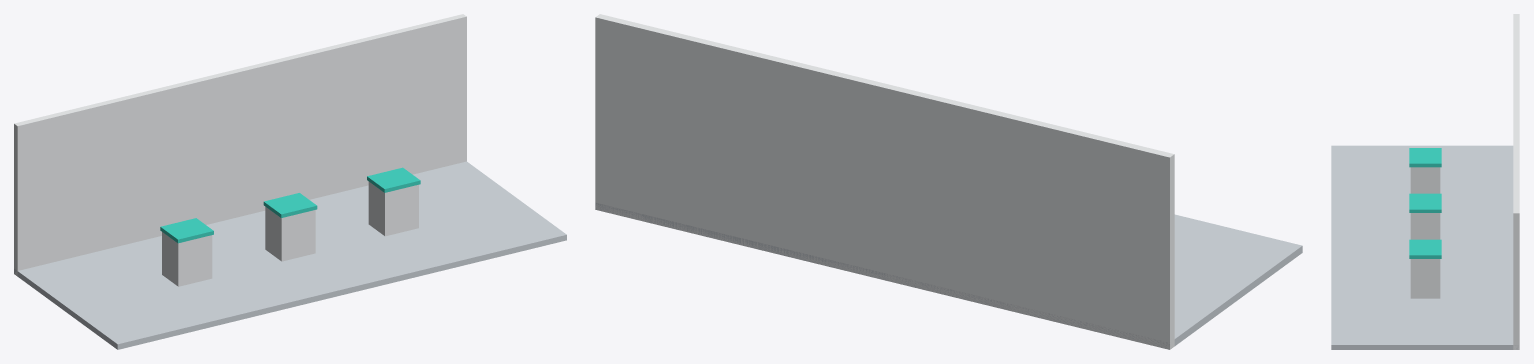
The picture shows the model from 3 angles, left to right: view 1: azimuth 30°, elevation 25°; view 2: azimuth 150°, elevation 25°; view 3: azimuth 270°, elevation 25°; orthographic projection. The views are drawn at different scales.
Parts seen in each view (by area): view 1: Exhibition Booth Concept; view 2: Exhibition Booth Concept; view 3: Exhibition Booth Concept.
Part boxes in pixels (box(x1,y1,x2,y2)): Exhibition Booth Concept: box(14, 14, 566, 349); Exhibition Booth Concept: box(595, 14, 1302, 349); Exhibition Booth Concept: box(1331, 14, 1519, 349).
Size of the model in its own units: 10 by 3.2 by 4.
